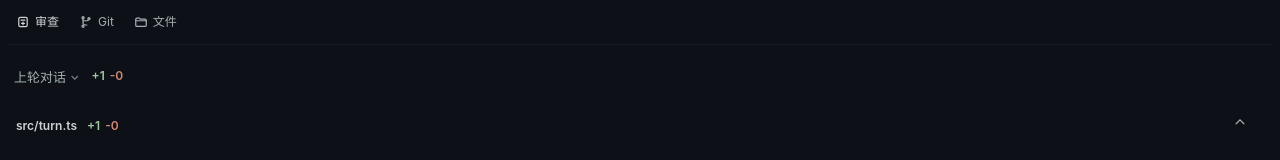
Test: ReviewPanel scoped change sets › toggles a review file diff by clicking the file header row
Click the button "src/turn.ts +1 -0 ⌃" at x=46, y=125, box x1=8 y1=107 x2=1260 y2=143
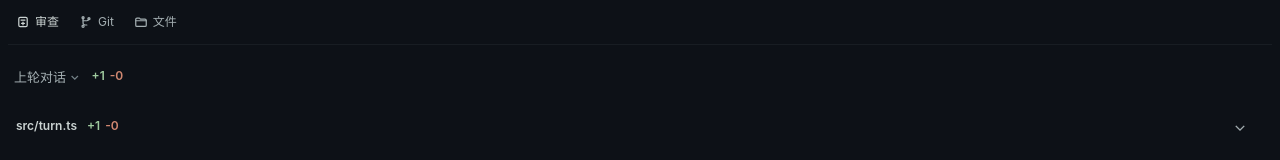
Expected: the button "src/turn.ts +1 -0 ⌄" is collapsed, x1=8 y1=107 x2=1260 y2=143
